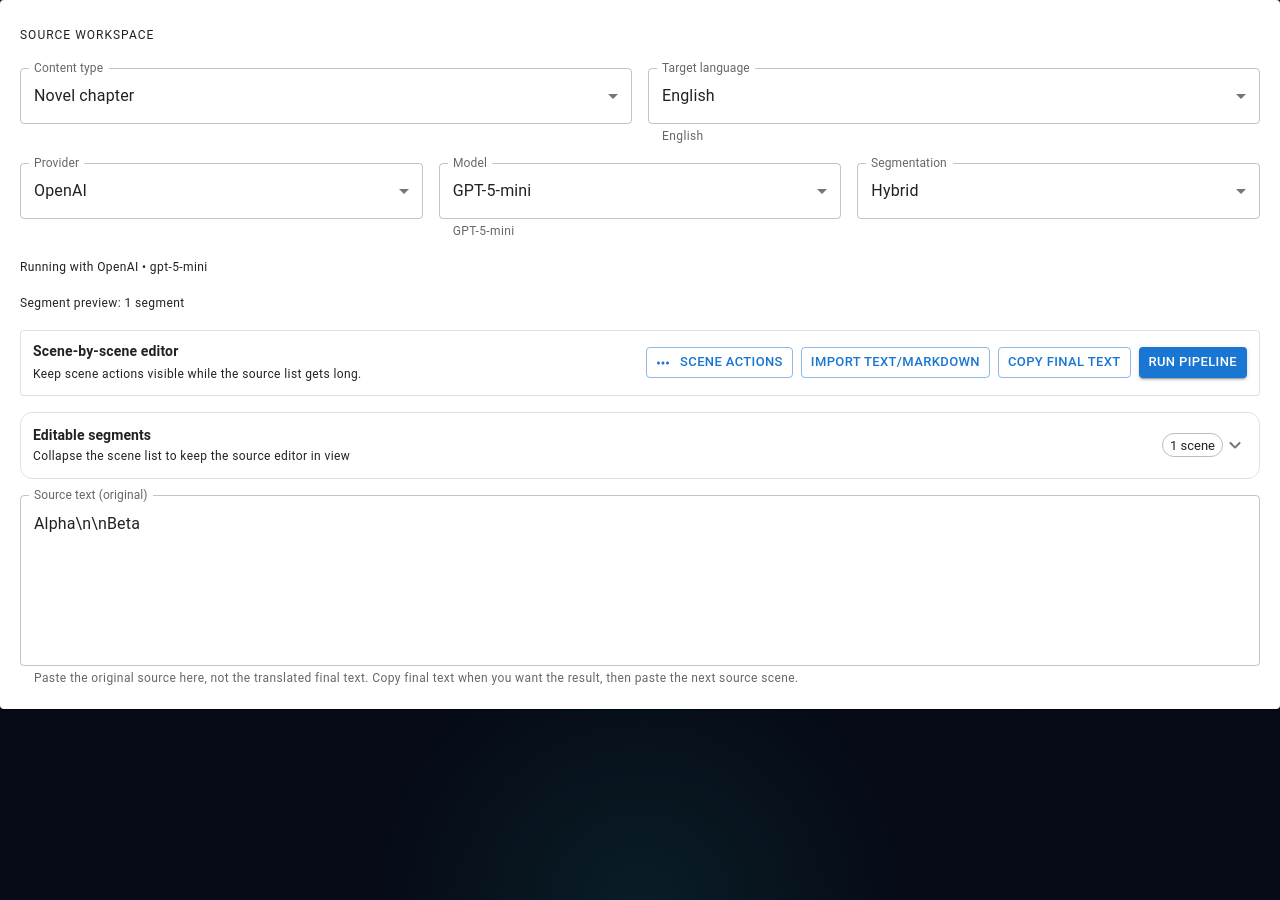
it: WorkspaceControls › keeps the editable segments collapsed until the accordion is opened
Expected: the field labelled "segment 1" is not shown
What coordinates should you click on to do the following:
click the button "Editable segments"
I would click on:
 (92, 435)
Its box is [21, 412, 1259, 478].
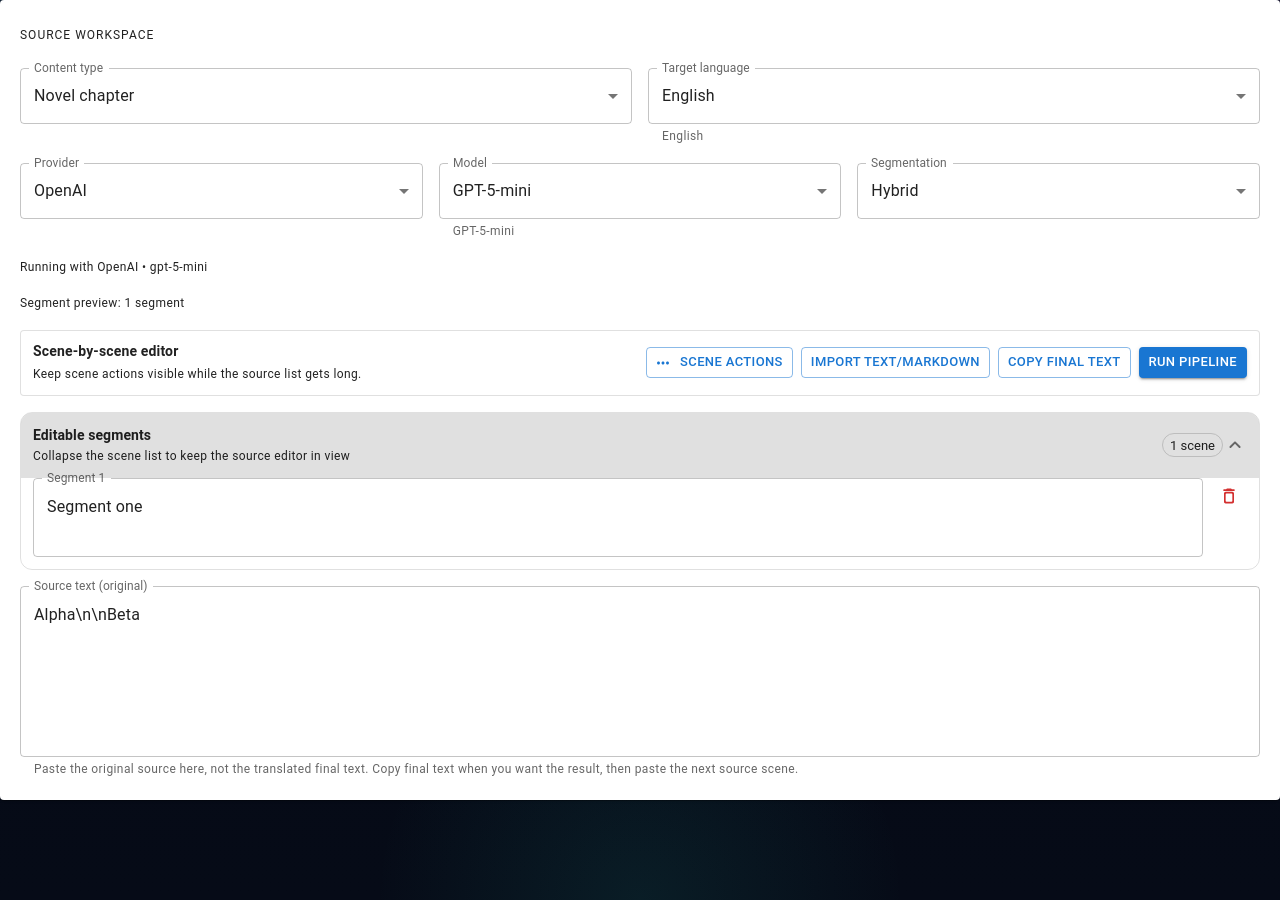
Expected: the button "Editable segments" is expanded, [21, 412, 1259, 478]
Expected: the text box labelled "Segment 1" is shown, [47, 495, 1189, 541]
